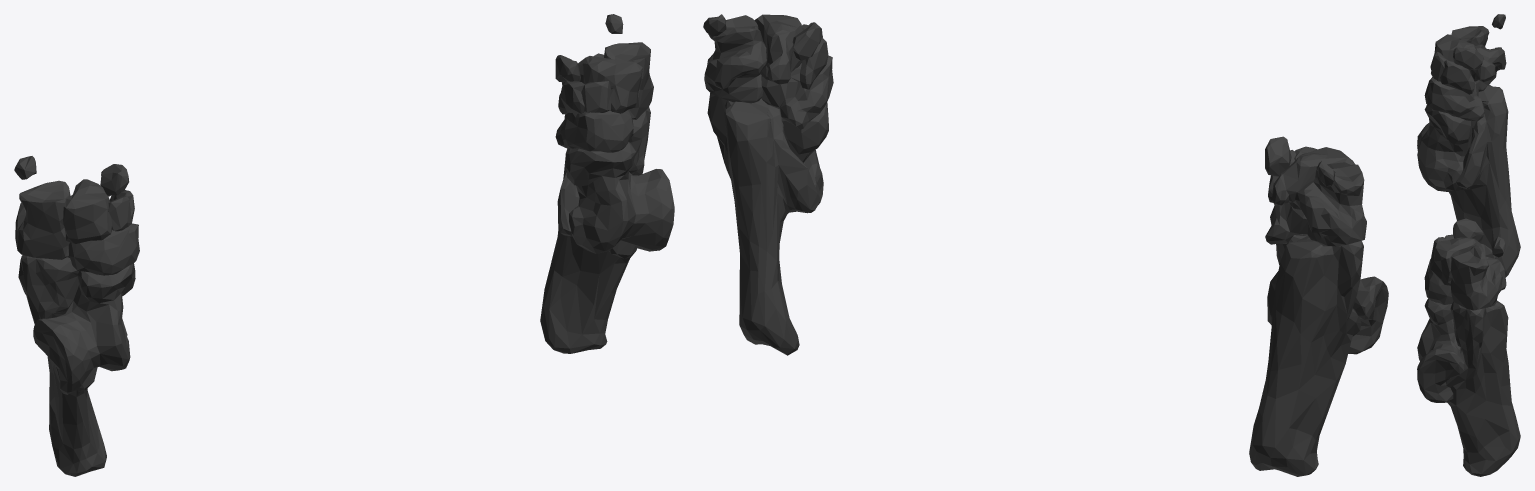
Rendered from b_hock.glb.
3 renders of one model, left to right at view 1: azimuth 30°, elevation 25°; view 2: azimuth 150°, elevation 25°; view 3: azimuth 270°, elevation 25°, orthographic. The views are drawn at different scales.
Visible parts, largest first — view 1: b_hock; view 2: b_hock; view 3: b_hock.
Part boxes in pixels (bbox=[...]): b_hock: bbox=[14, 14, 674, 476]; b_hock: bbox=[703, 14, 1388, 476]; b_hock: bbox=[1417, 14, 1520, 476].
Bounding box in the file's own units: 0.0547 × 0.0263 × 0.00986.
1 material, 1 textured.
